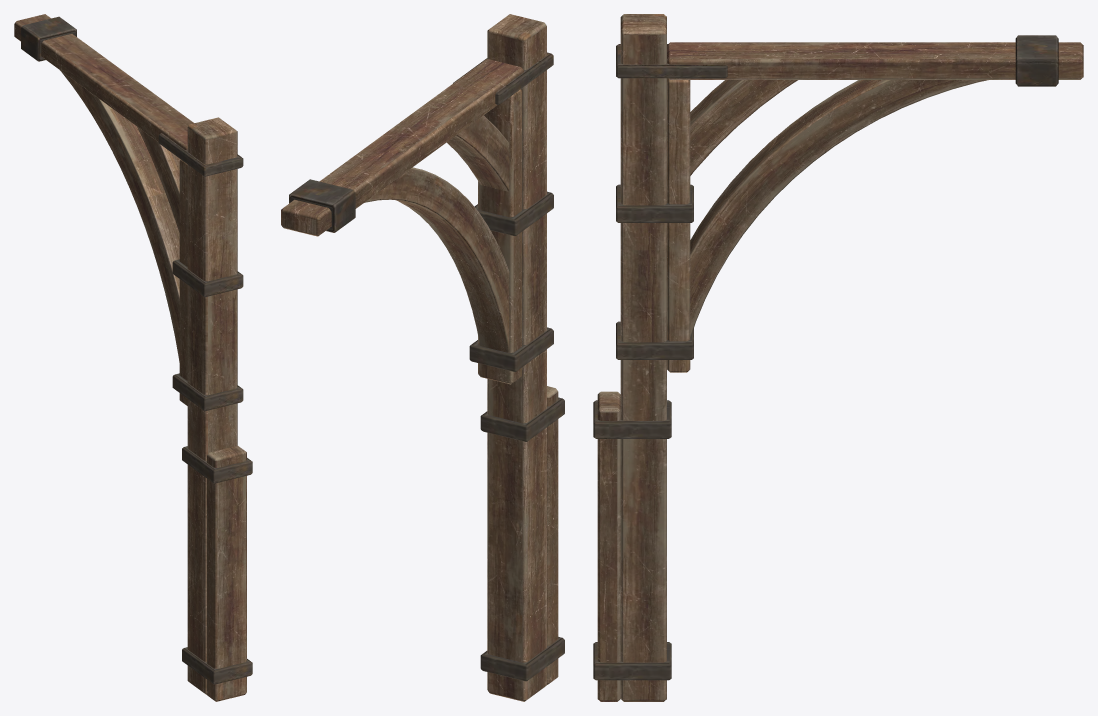
3 views of the same model, side by side, from view 1: azimuth 30°, elevation 25°; view 2: azimuth 150°, elevation 25°; view 3: azimuth 270°, elevation 25° (orthographic). The views are drawn at different scales.
Visible parts, largest first — view 1: SM_DR_Wood_L_Frame_01_LOD0; view 2: SM_DR_Wood_L_Frame_01_LOD0; view 3: SM_DR_Wood_L_Frame_01_LOD0.
Boxes of the visible parts, box(x1,y1,x2,y2) form: SM_DR_Wood_L_Frame_01_LOD0: box(14, 14, 252, 701); SM_DR_Wood_L_Frame_01_LOD0: box(281, 14, 564, 701); SM_DR_Wood_L_Frame_01_LOD0: box(593, 14, 1083, 701).
Size of the model in its own units: 0.6002 by 8 by 5.3.
2 materials, 2 textured.
